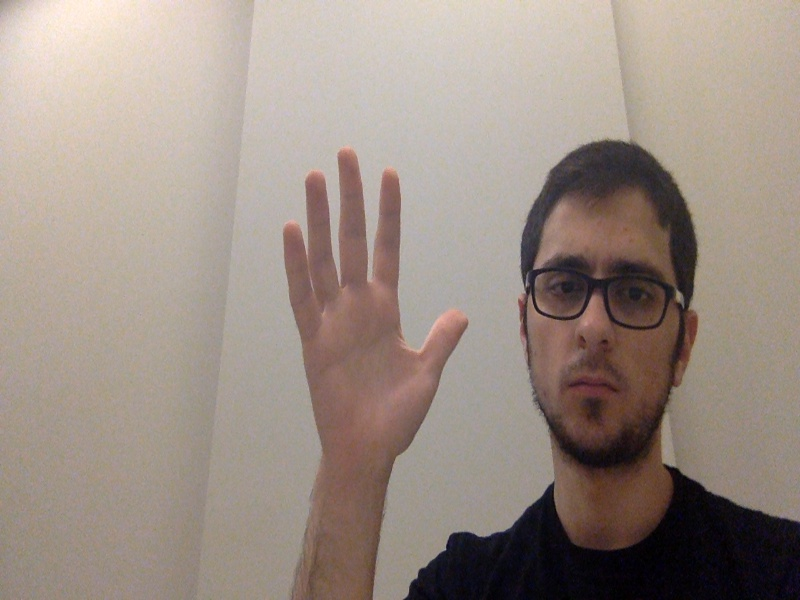5-hand: (279, 146, 471, 463)
